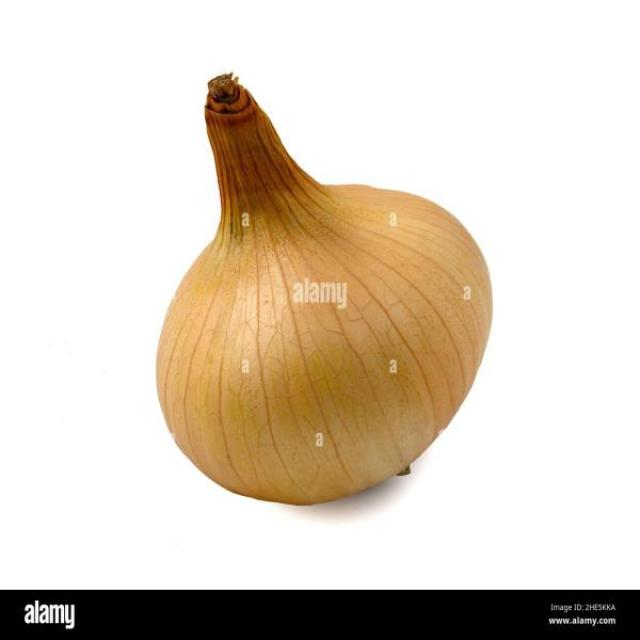Onion: (154, 74, 495, 508)
